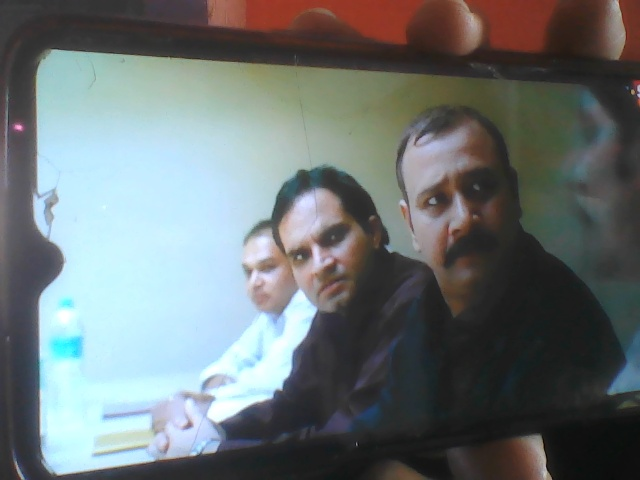fake: (397, 93, 539, 295), (265, 165, 385, 335)
